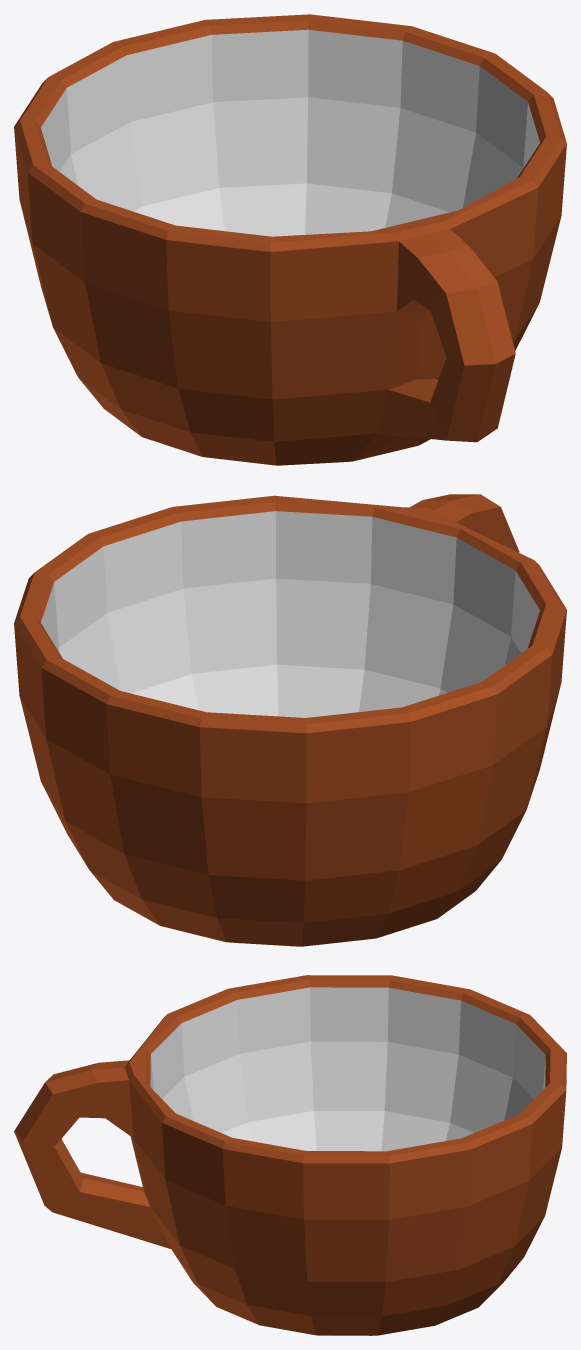
File: Cup.glb
3 renders of one model, top to bottom at view 1: azimuth 30°, elevation 25°; view 2: azimuth 150°, elevation 25°; view 3: azimuth 270°, elevation 25°, orthographic. The views are drawn at different scales.
Parts seen in each view (by area): view 1: 494 Cups; view 2: 494 Cups; view 3: 494 Cups.
Part boxes in pixels (x1,y1,x2,y2): 494 Cups: [14, 14, 566, 465]; 494 Cups: [14, 494, 566, 946]; 494 Cups: [14, 975, 566, 1335].
Size of the model in its own units: 69.58 by 38.51 by 87.87.
Materials: 1 (1 with a texture image).
